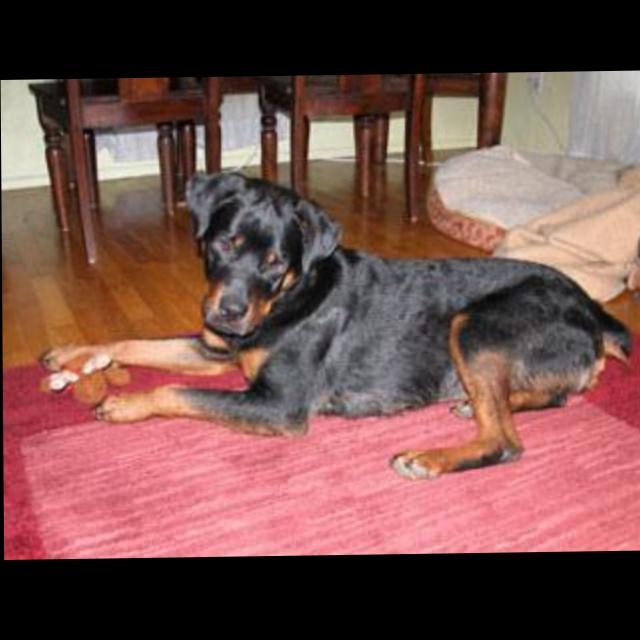rottweiler: (38, 164, 636, 487)
